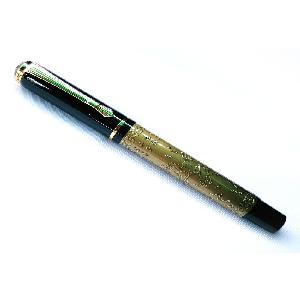pen: (10, 58, 296, 237)
